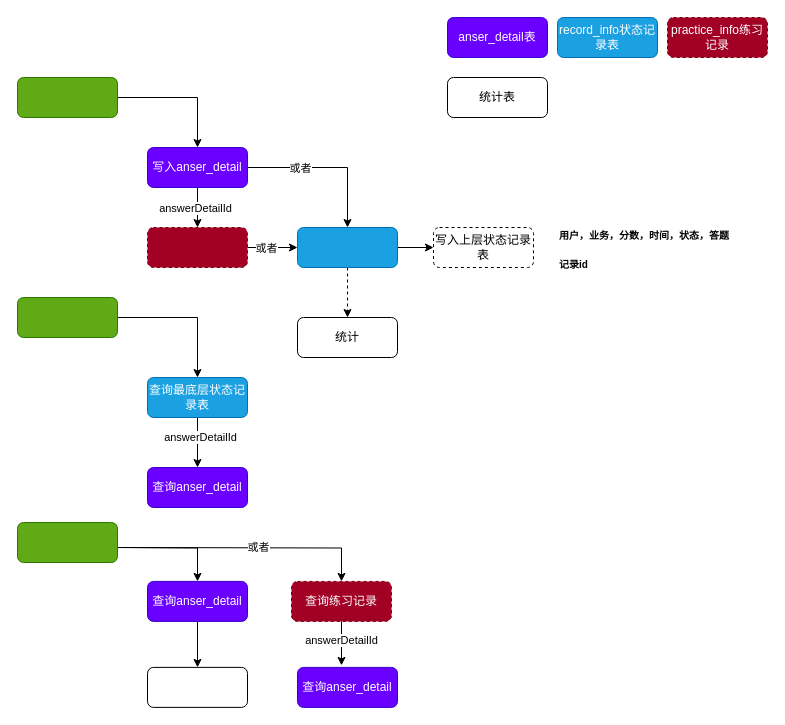
This 785x725 diagram has some shape labels left out. Here are the shapes that lost their labels. From the top down, the centre of each, then its label:
At (67,97): "提交答题记录".
At (197,247): "写入练习记录".
At (347,247): "写入最底层状态记录表".
At (67,317): "查询答题记录".
At (67,542): "查询历史答题记录".
At (197,686): "按时间排序".
